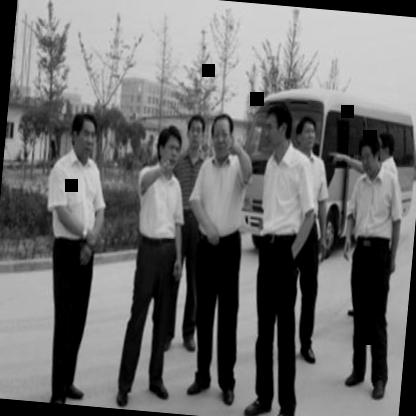head: (260, 98, 294, 155), (152, 122, 186, 178), (68, 108, 100, 163), (206, 109, 236, 162), (356, 128, 386, 176), (294, 113, 321, 156), (184, 110, 207, 158), (378, 127, 398, 166)
